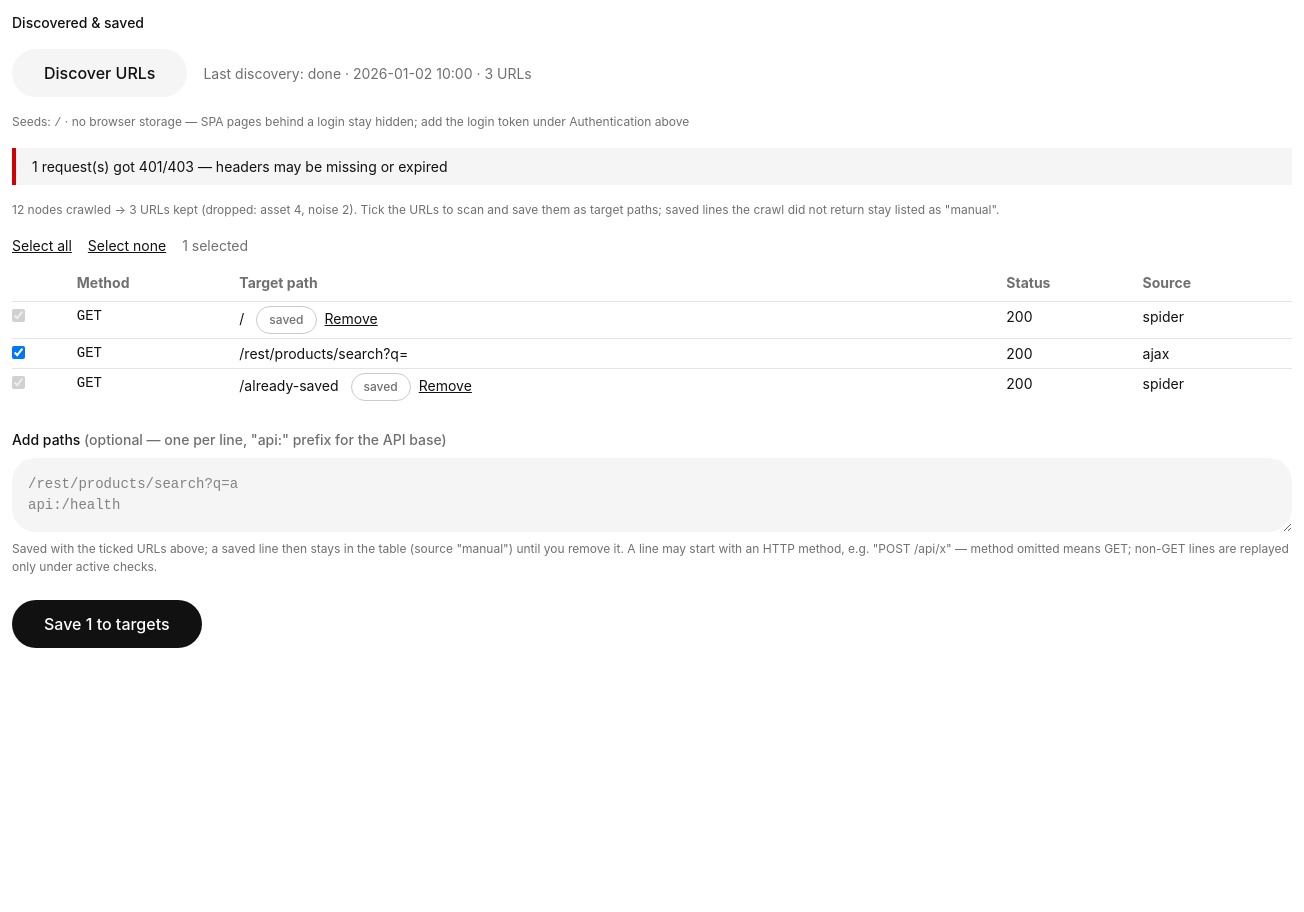
Test: DiscoveryPanel › shows the API error when removing a saved row is rejected
Step 1. Click the 1st button with test id "remove-target" → click(351, 318), box [324,308,378,329]
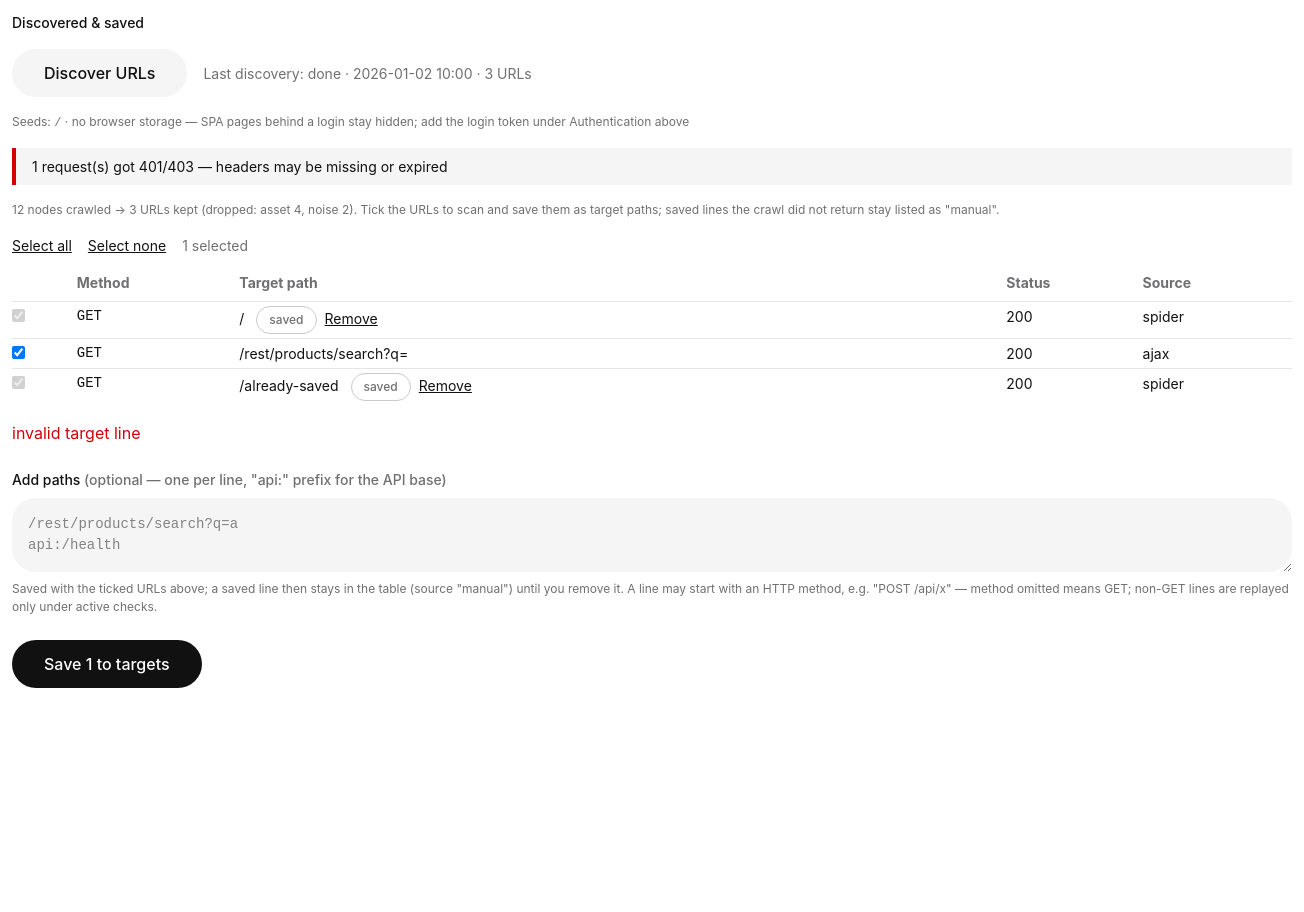
Expected: the text with test id "remove-error" reads "invalid target line", [12,423,140,443]
